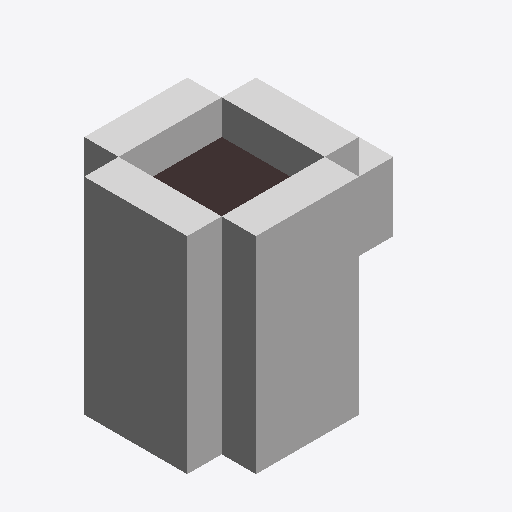
A Minecraft block model of 11 cuboids, rendered isometrically (azimuth 45°, elevation 35.3°) with the resource pack's own textures.
Parts seen in each view (by area): element 4, element 6, element 5, element 7, element 2, element 11, element 1, element 9.
Boxes of the visible parts, box(x1,y1,x2,y2) form: element 4: box(84, 157, 221, 433); element 6: box(222, 157, 358, 433); element 5: box(84, 78, 221, 176); element 7: box(222, 78, 358, 176); element 2: box(84, 375, 221, 473); element 11: box(153, 137, 289, 215); element 1: box(222, 375, 358, 473); element 9: box(359, 137, 392, 255).
Size of the model in its own units: 7 by 6 by 5.